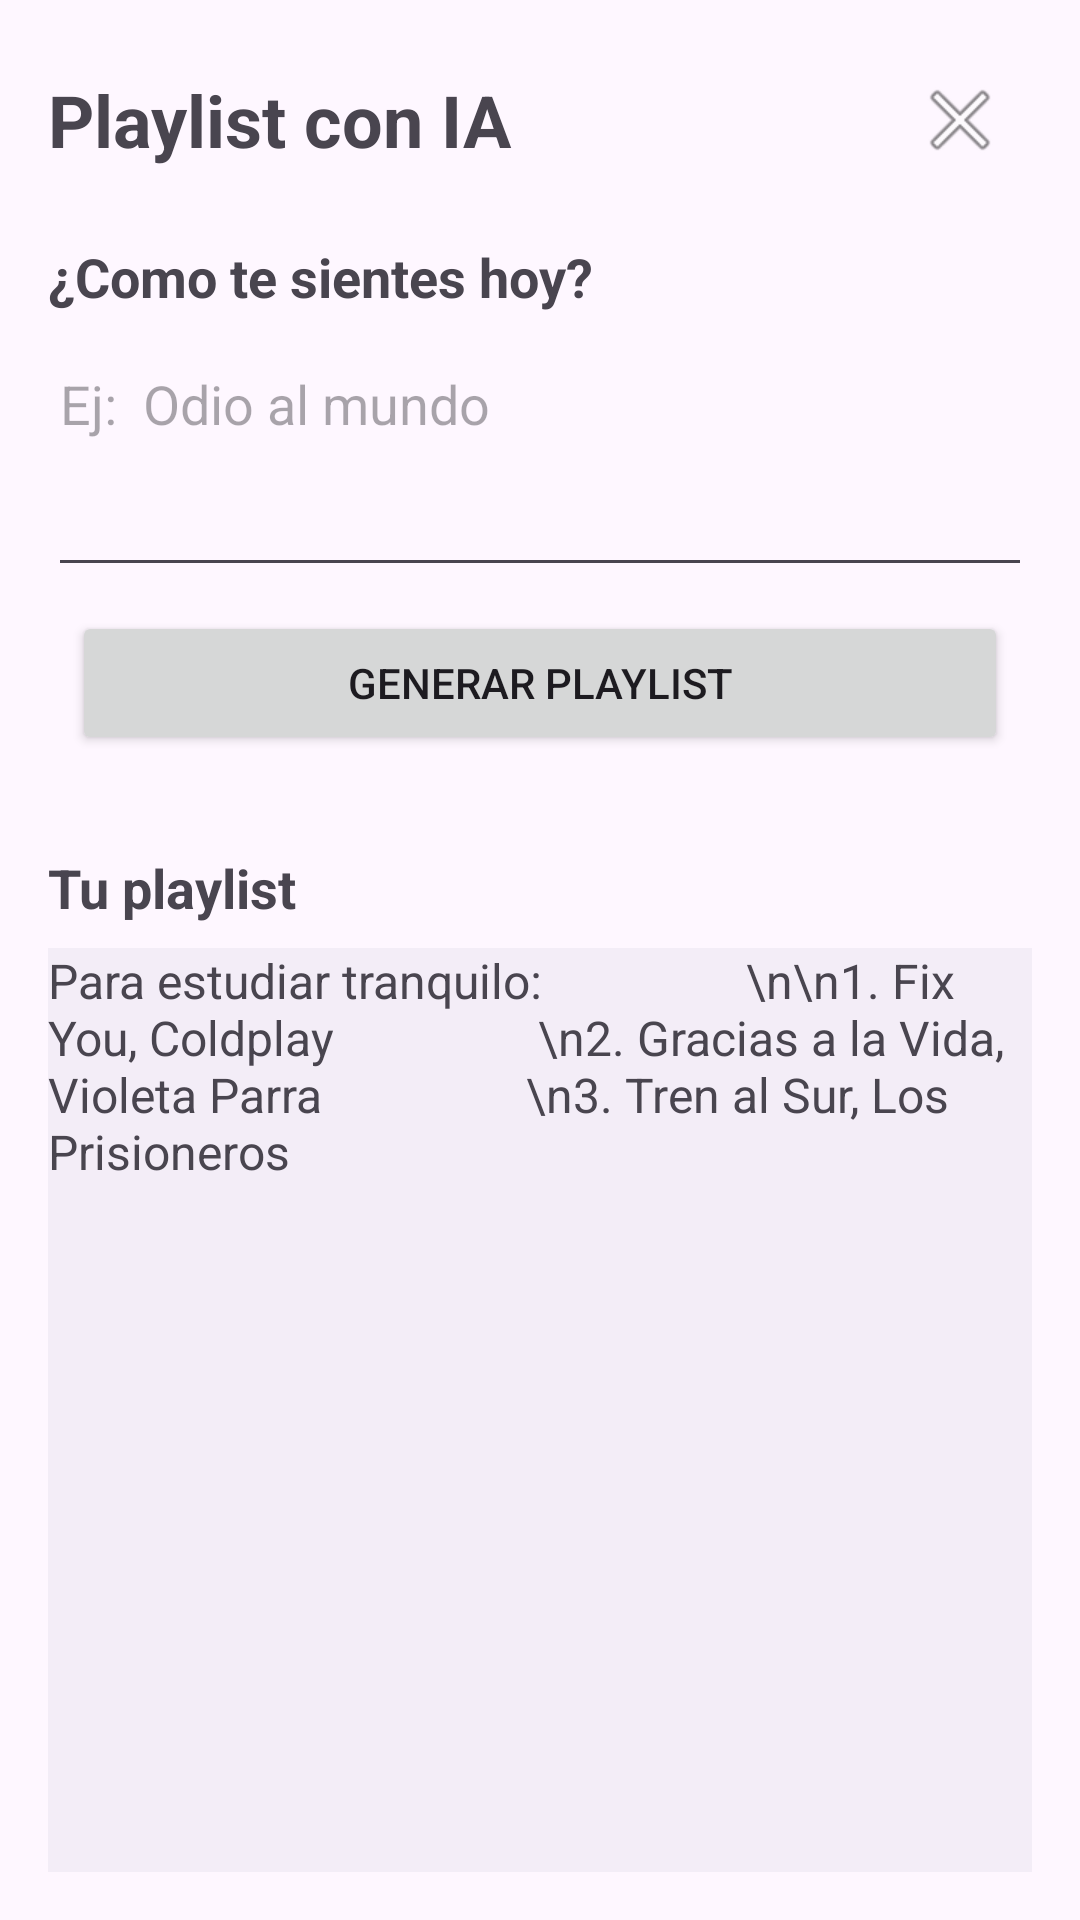

Where icons sit on this 1080*1920 app screen, as (x1, y1, x2, y2):
Volver a la lista: (930, 90, 990, 150)
